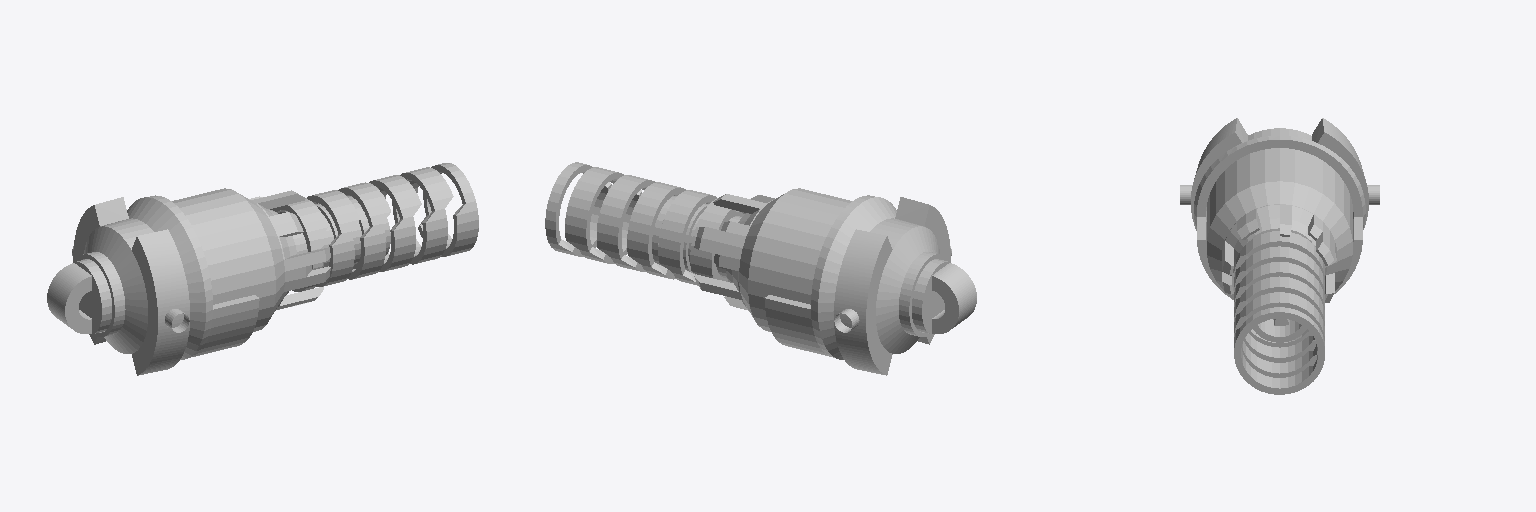
Rendered from turret_cannon.obj.
3 renders of one model, left to right at view 1: azimuth 30°, elevation 25°; view 2: azimuth 150°, elevation 25°; view 3: azimuth 270°, elevation 25°, orthographic.
Size of the model in its own units: 3.17 by 1.14 by 1.37.